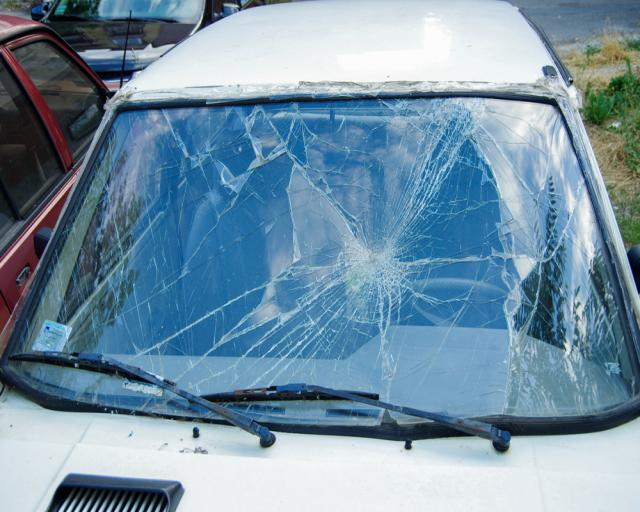glass shatter: (13, 96, 640, 425)
